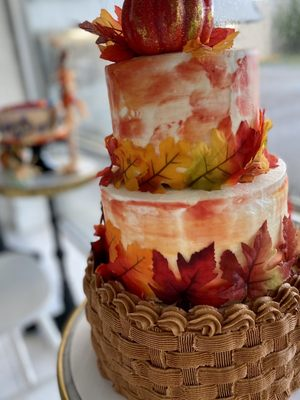sushi: (90, 30, 296, 352), (81, 132, 300, 399)
